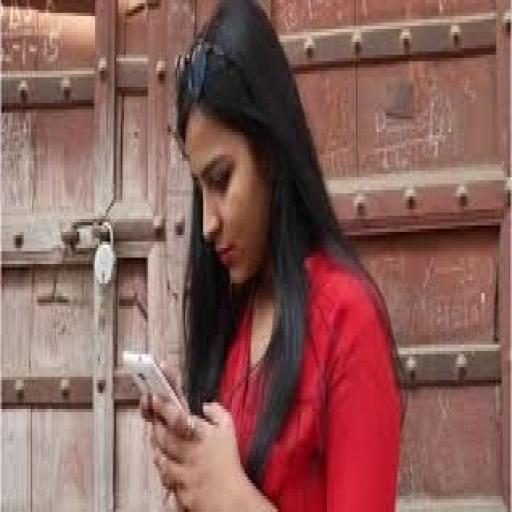texting: (137, 0, 407, 509)
